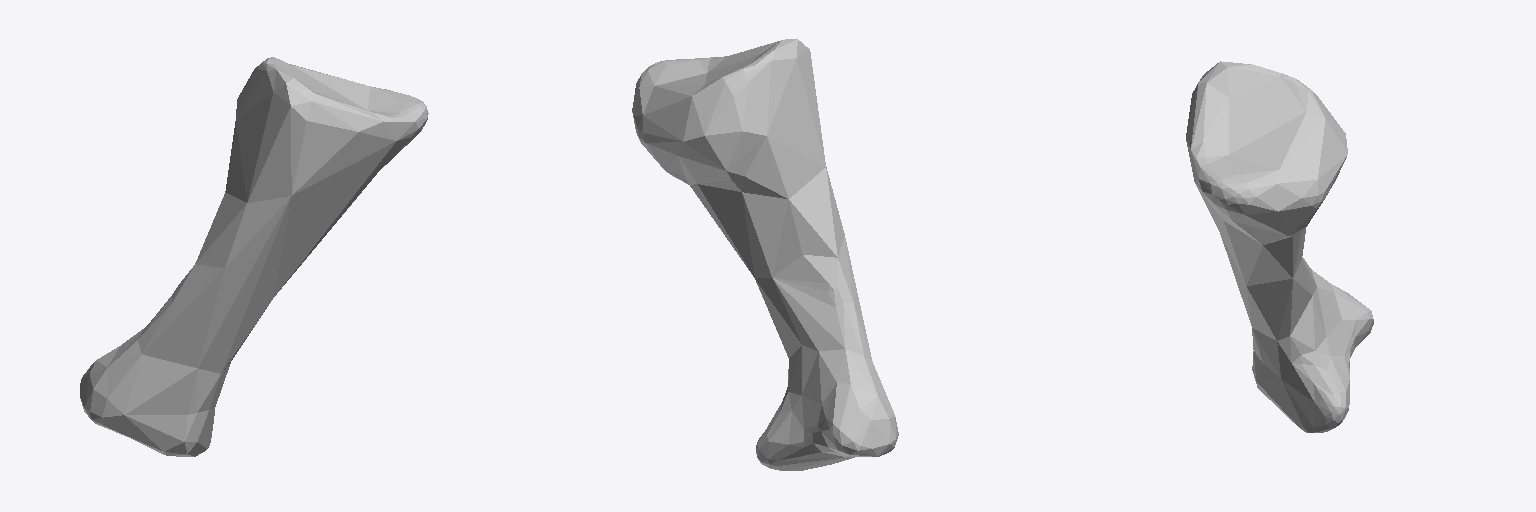
Rendered from proximal phalanx of right second toe.obj.
3 views of the same model, side by side, from view 1: azimuth 30°, elevation 25°; view 2: azimuth 150°, elevation 25°; view 3: azimuth 270°, elevation 25° (orthographic).
Visible parts, largest first — view 1: grp1; view 2: grp1; view 3: grp1.
Boxes of the visible parts, x1,y1,x2,y2 form: grp1: [80, 57, 428, 456]; grp1: [632, 39, 898, 470]; grp1: [1186, 61, 1373, 432].
Size of the model in its own units: 22.22 by 28.12 by 12.33.